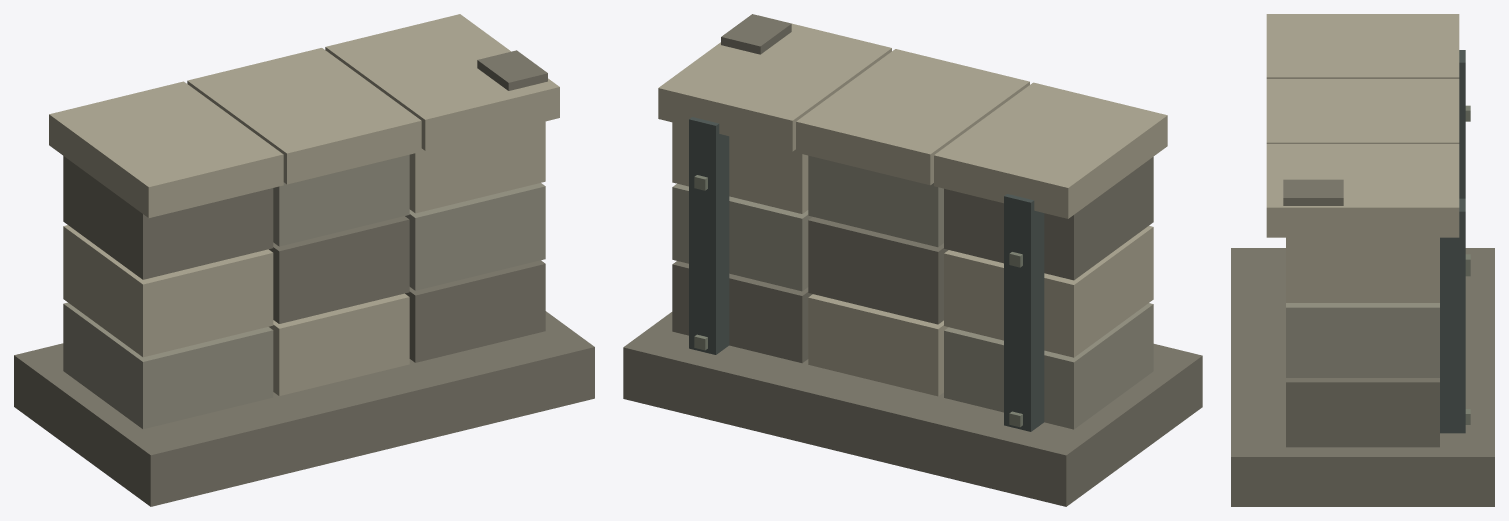
File: sample_wall.glb
The picture shows the model from 3 angles, left to right: view 1: azimuth 30°, elevation 25°; view 2: azimuth 150°, elevation 25°; view 3: azimuth 270°, elevation 25°; orthographic projection. The views are drawn at different scales.
Parts seen in each view (by area): view 1: footing, cap, cap.001, concrete_block.003, cap.002, concrete_block, concrete_block.006, concrete_block.004, concrete_block.005, concrete_block.001, concrete_block.002, concrete_block.007 (+2 smaller); view 2: footing, cap, cap.001, cap.002, concrete_block.003, concrete_block, concrete_block.006, concrete_block.004, concrete_block.001, brace, brace.001, concrete_block.007 (+4 smaller); view 3: footing, cap.002, cap, cap.001, concrete_block.005, concrete_block.002, concrete_block.008, brace.001, chipped_cap, brace.
Part boxes in pixels (x1,y1,x2,y2): footing: (14,311,594,506); cap: (49,81,283,217); cap.001: (187,48,421,184); concrete_block.003: (63,225,273,357); cap.002: (325,14,559,150); concrete_block: (63,302,273,429); concrete_block.006: (63,156,273,279); concrete_block.004: (269,216,409,323); concrete_block.005: (405,183,545,290); concrete_block.001: (269,293,409,395); concrete_block.002: (405,260,545,362); concrete_block.007: (273,154,409,246); footing: (623,312,1202,506); cap: (934,82,1167,218); cap.001: (796,49,1029,185); cap.002: (658,23,891,151); concrete_block.003: (944,226,1153,357); concrete_block: (944,303,1153,429); concrete_block.006: (944,157,1153,280); concrete_block.004: (808,217,948,324); concrete_block.001: (808,294,948,396); brace: (1004,194,1044,431); brace.001: (689,117,729,354); concrete_block.007: (808,155,943,247); footing: (1231,248,1494,506); cap.002: (1266,144,1459,237); cap: (1266,14,1459,78); cap.001: (1266,79,1459,143); concrete_block.005: (1286,303,1439,377); concrete_block.002: (1286,378,1439,447); concrete_block.008: (1286,237,1439,302); brace.001: (1440,198,1465,433); chipped_cap: (1283,179,1343,205); brace: (1459,50,1465,198).
Bounding box in the file's own units: 0.9 × 0.601 × 0.48.
